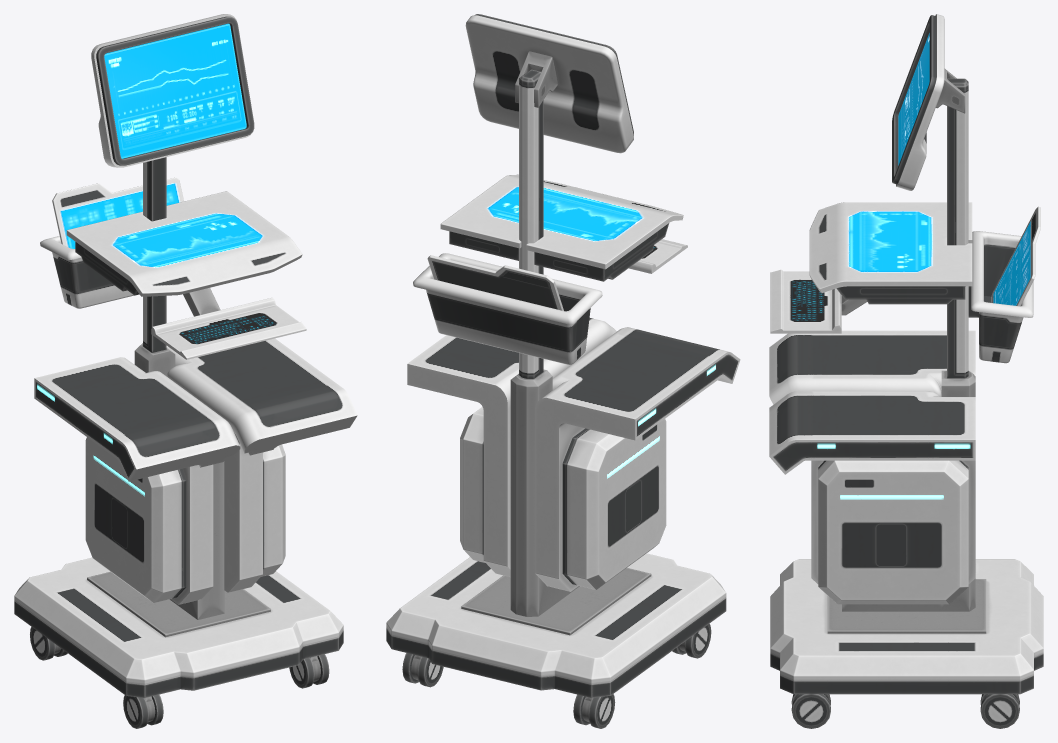
The model's file is MedMobileTerminal01.FBX.
3 renders of one model, left to right at view 1: azimuth 30°, elevation 25°; view 2: azimuth 150°, elevation 25°; view 3: azimuth 270°, elevation 25°, orthographic. The views are drawn at different scales.
Visible parts, largest first — view 1: MedMobileTerminal01; view 2: MedMobileTerminal01; view 3: MedMobileTerminal01.
Part boxes in pixels (x1,y1,x2,y2): MedMobileTerminal01: [14, 14, 357, 728]; MedMobileTerminal01: [386, 14, 740, 728]; MedMobileTerminal01: [769, 14, 1043, 728].
Size of what is drawn, in the model's own units: 0.6633 by 1.81 by 0.7046.
